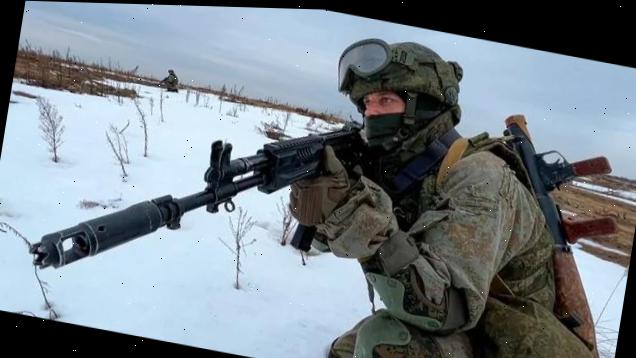person: (159, 66, 182, 94)
